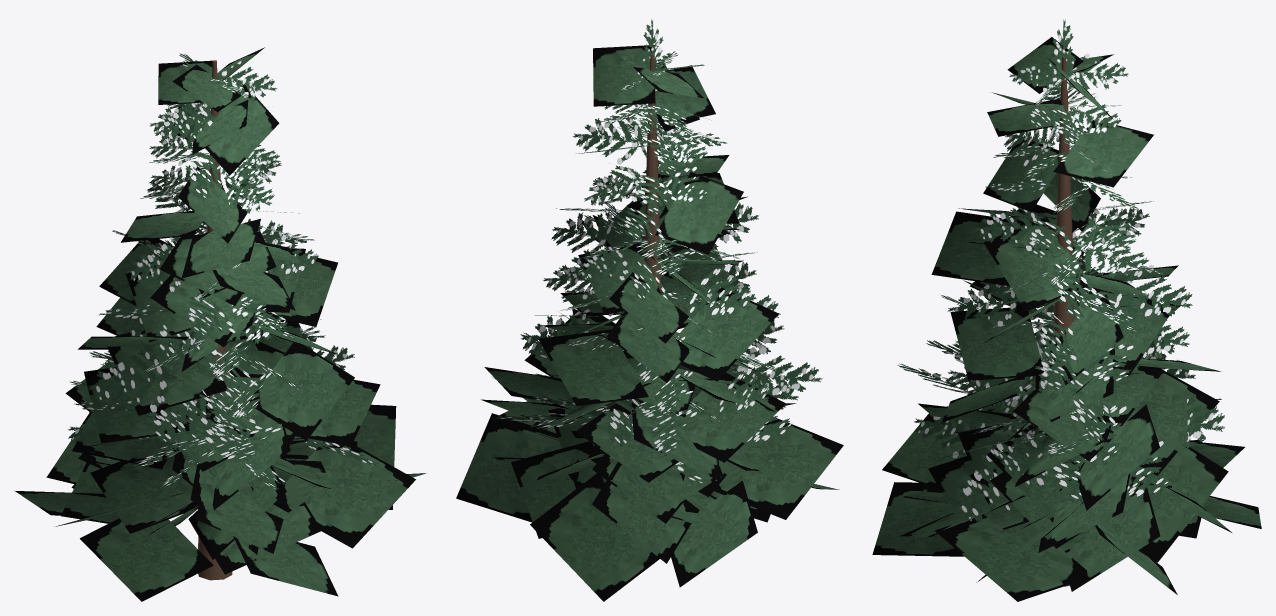
Rendered from snow_pine_1_mid.glb.
3 renders of one model, left to right at view 1: azimuth 30°, elevation 25°; view 2: azimuth 150°, elevation 25°; view 3: azimuth 270°, elevation 25°, orthographic. The views are drawn at different scales.
Visible parts, largest first — view 1: snow_pine_1_mid; view 2: snow_pine_1_mid; view 3: snow_pine_1_mid.
Part boxes in pixels (box(x1,y1,x2,y2)): snow_pine_1_mid: box(14, 47, 425, 601); snow_pine_1_mid: box(456, 19, 843, 601); snow_pine_1_mid: box(872, 19, 1261, 601).
Bounding box in the file's own units: 7.16 × 10.65 × 6.72.
Materials: 3 (2 with a texture image).
